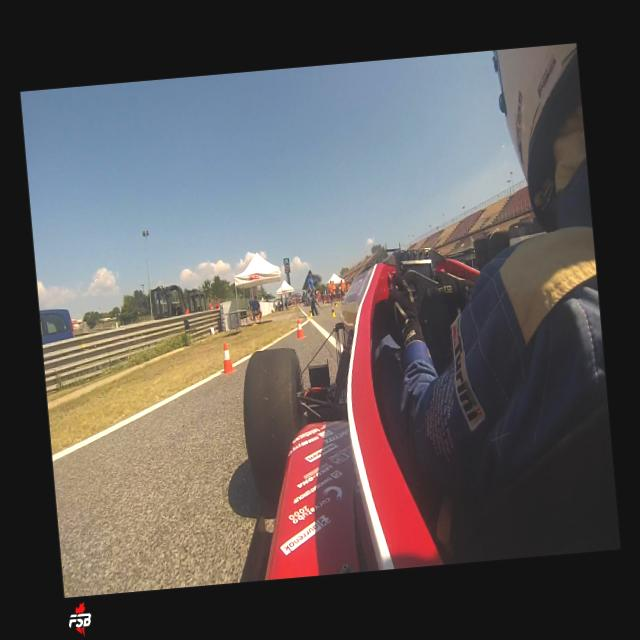orange_cone: (218, 341, 237, 374), (293, 317, 305, 338)
yellow_cone: (331, 306, 336, 318), (308, 307, 312, 317)
